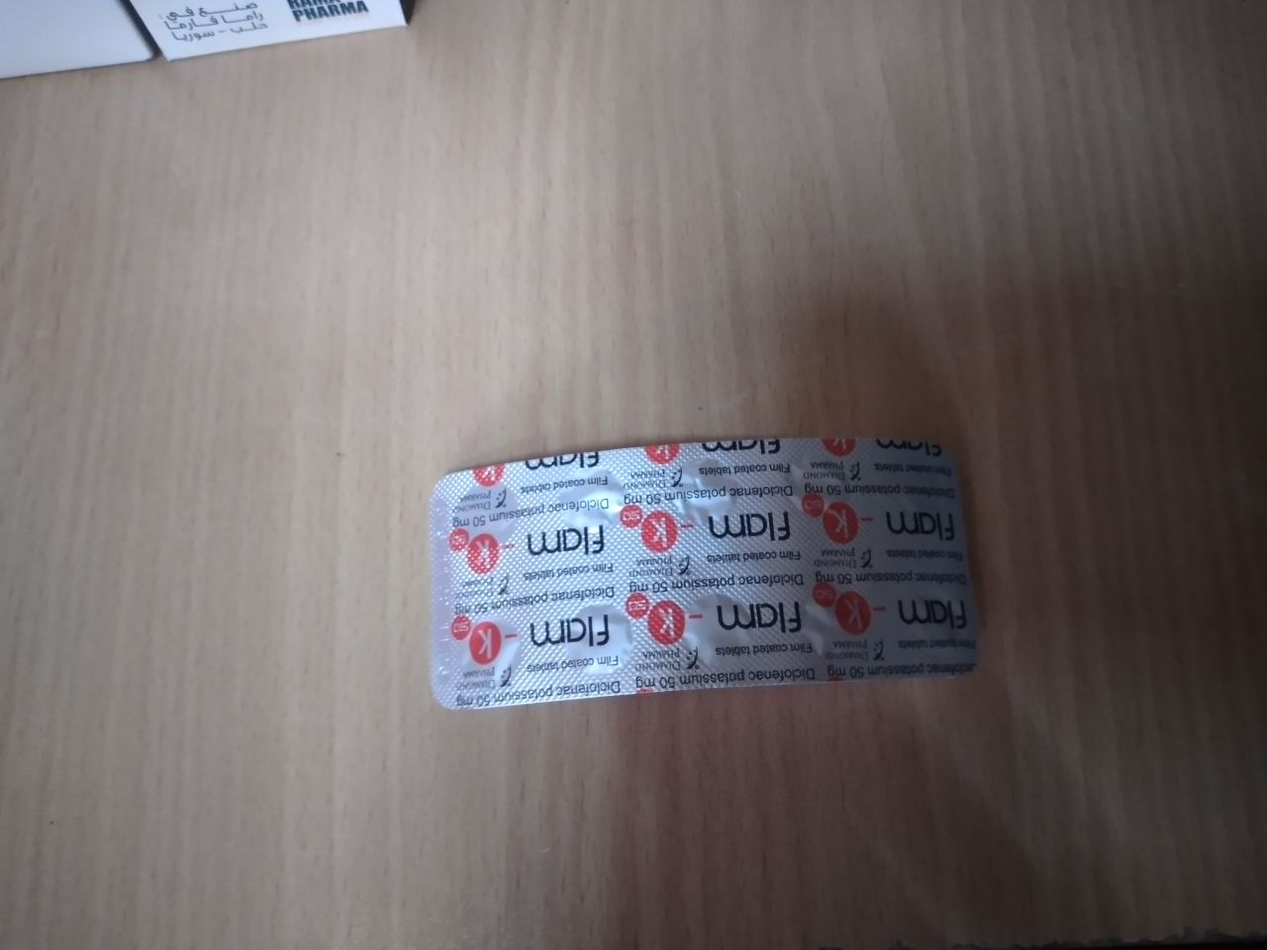Medicine: (411, 443, 982, 703)
